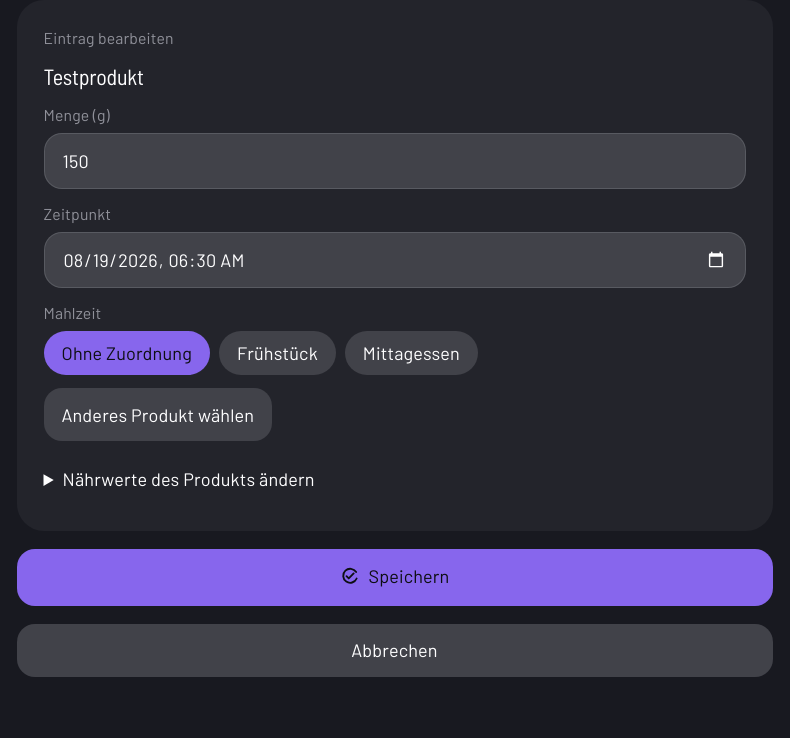
Scenario: FoodEntryEditForm › reports a failed save instead of closing
Click the button "Speichern". click: x=394, y=577
box: left=16, top=549, right=772, bottom=606
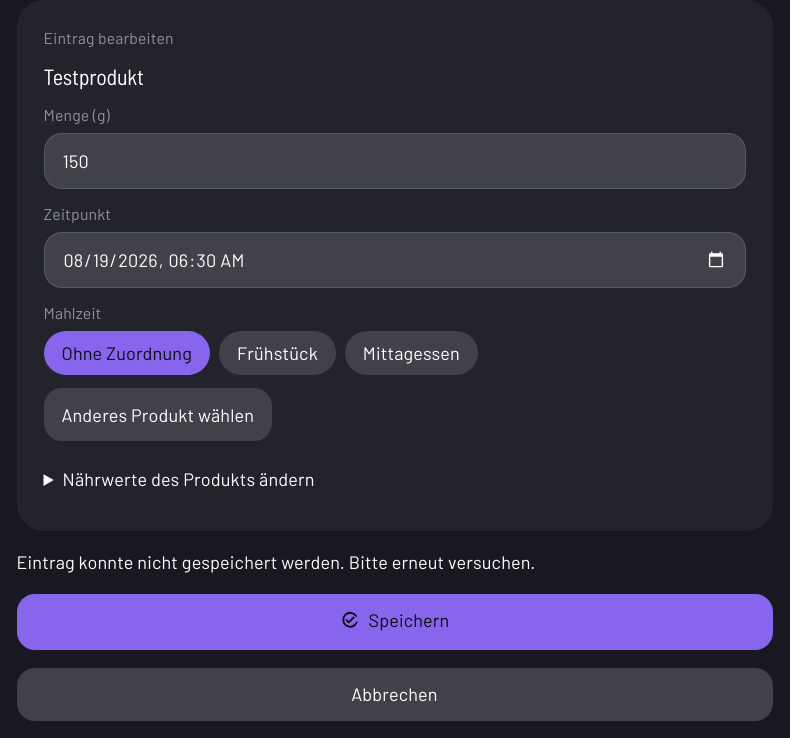
Expected: the message shows "konnte nicht gespeichert werden", left=16, top=551, right=535, bottom=573
